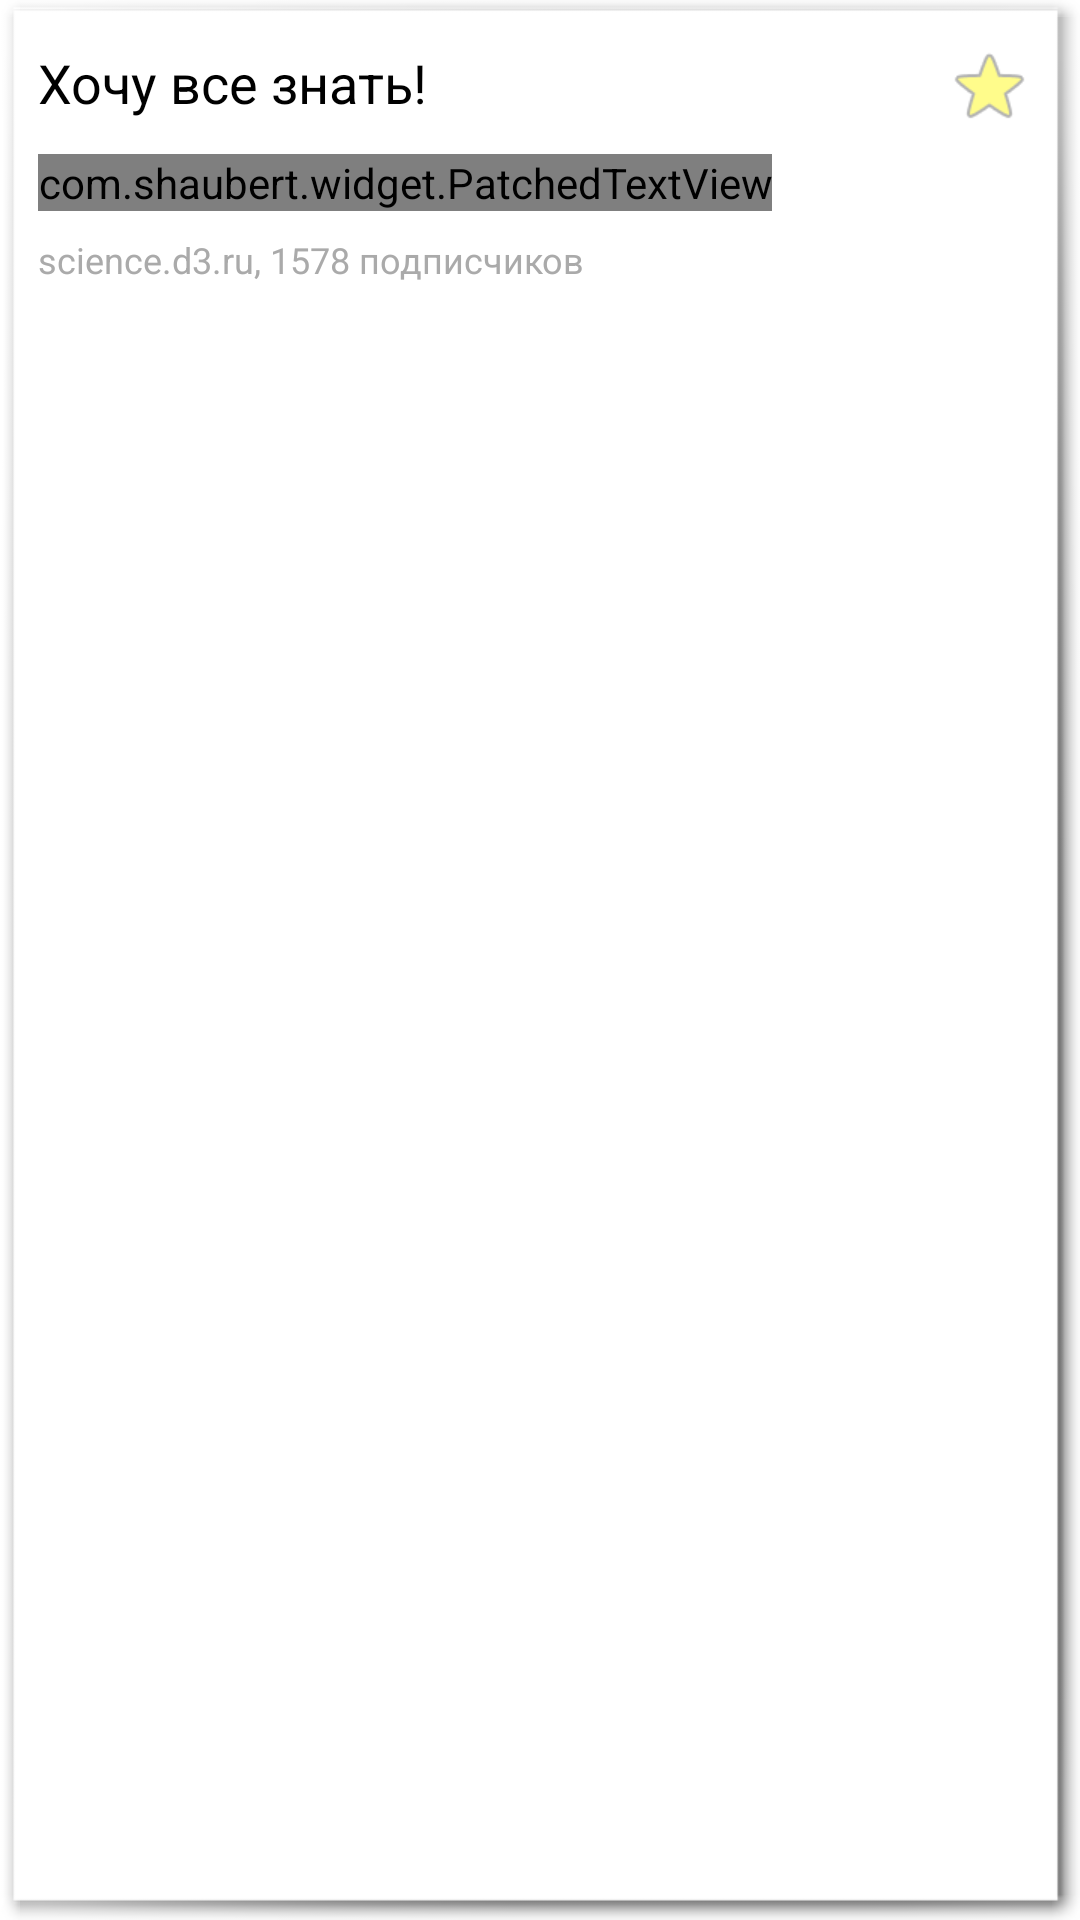

Icon click points for this 1080*1920 phone screenshot, format (x=x, y=y):
star: (x=989, y=86)
